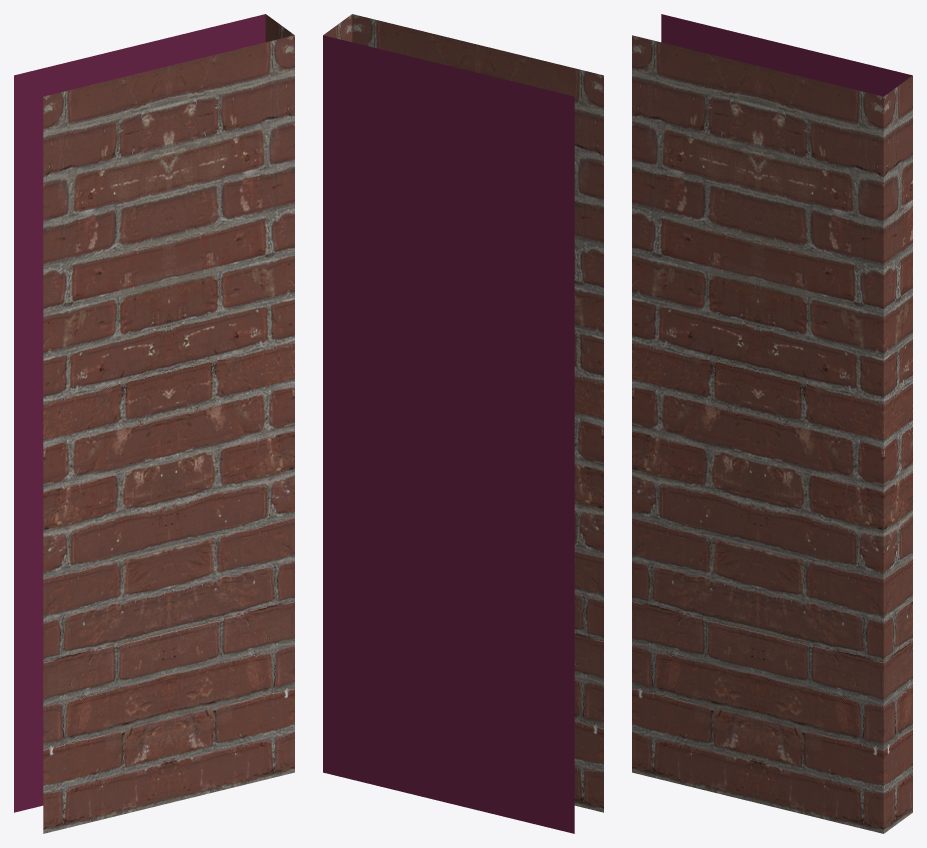
Rendered from MidIn_Wall_1x_End.FBX.
3 views of the same model, side by side, from view 1: azimuth 30°, elevation 25°; view 2: azimuth 150°, elevation 25°; view 3: azimuth 330°, elevation 25° (orthographic).
Parts seen in each view (by area): view 1: MidIn_Wall_1x_End; view 2: MidIn_Wall_1x_End; view 3: MidIn_Wall_1x_End.
Part boxes in pixels (x1,y1,x2,y2): MidIn_Wall_1x_End: (14, 14, 294, 833); MidIn_Wall_1x_End: (323, 14, 603, 833); MidIn_Wall_1x_End: (632, 14, 912, 833).
Bounding box in the file's own units: 100 × 280 × 20.
